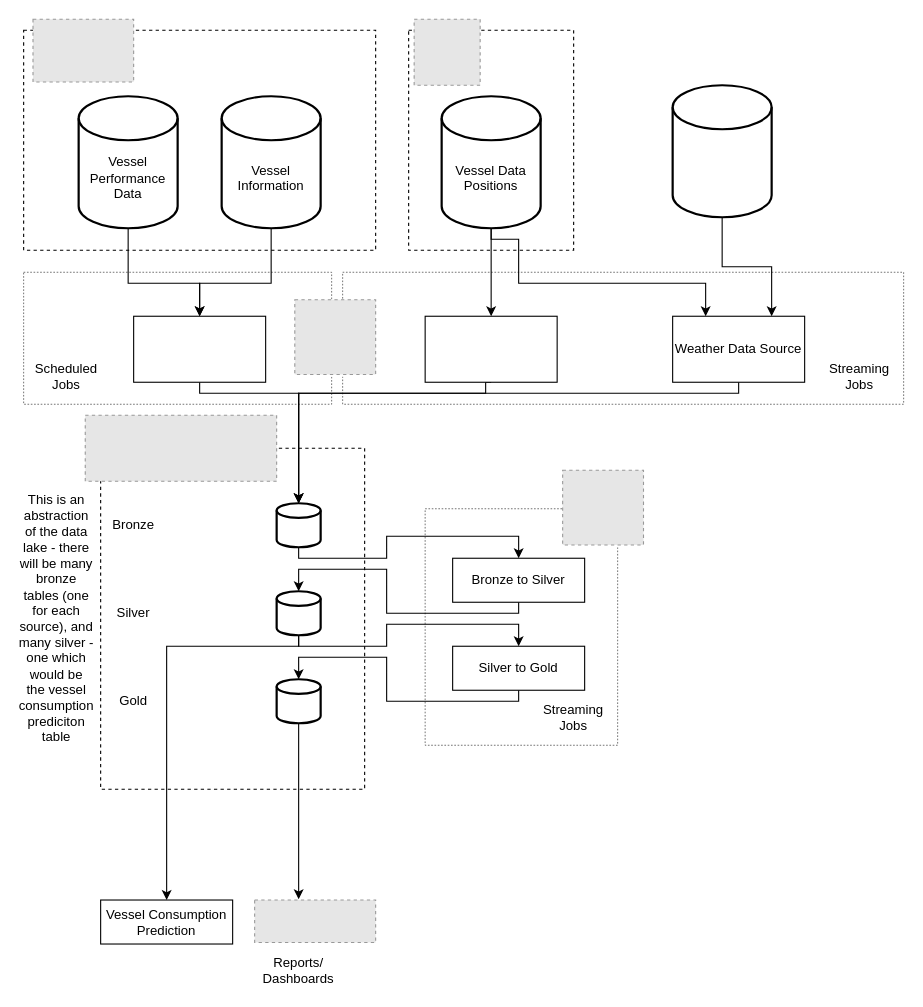
Some shapes in this 923 by 1007 pixel diagram are drawn without their labels. Grey dashed boxes stand in for pictures. The shapes that lost their labels are listed below. From the top down, each one's centre as x and y in pixels, then its label:
At point (721, 151): "Weather Data for Vessel Positions".
At point (199, 348): "Postgres Ingester".
At point (490, 348): "Kafka Ingester".
